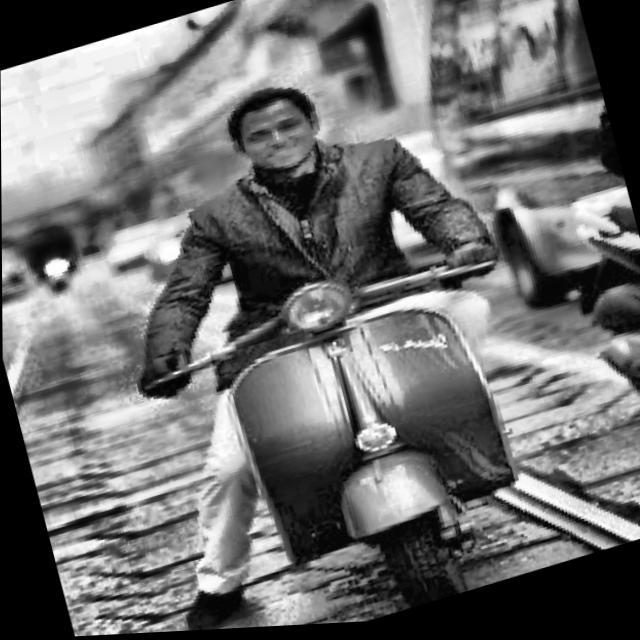motorcycle: (114, 208, 587, 635)
